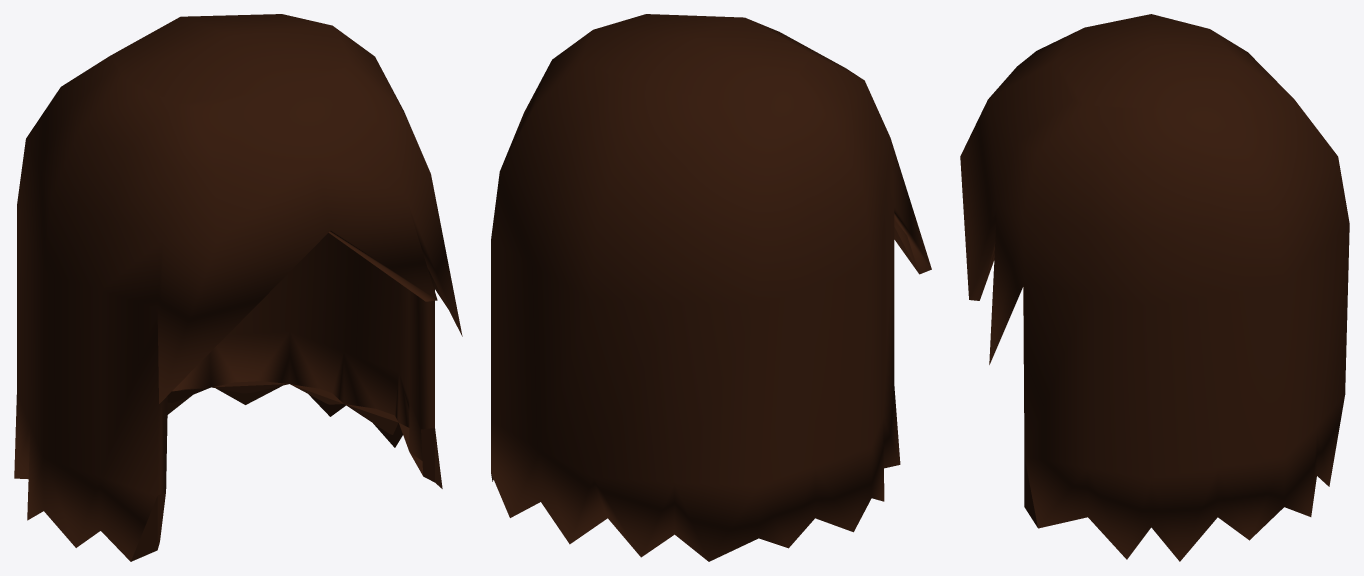
File: hair8.gltf
The picture shows the model from 3 angles, left to right: view 1: azimuth 30°, elevation 25°; view 2: azimuth 150°, elevation 25°; view 3: azimuth 270°, elevation 25°; orthographic projection. The views are drawn at different scales.
Parts seen in each view (by area): view 1: hair8; view 2: hair8; view 3: hair8.
Boxes of the visible parts, bbox=[...] form: hair8: bbox=[14, 14, 462, 561]; hair8: bbox=[491, 14, 931, 561]; hair8: bbox=[960, 14, 1349, 561].
Bounding box in the file's own units: 1.19 × 1.46 × 1.19.
